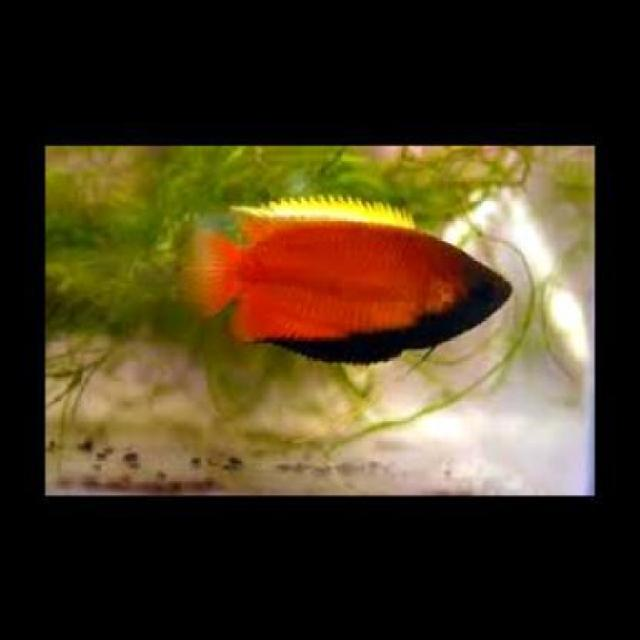Gourami: (172, 193, 514, 367)
